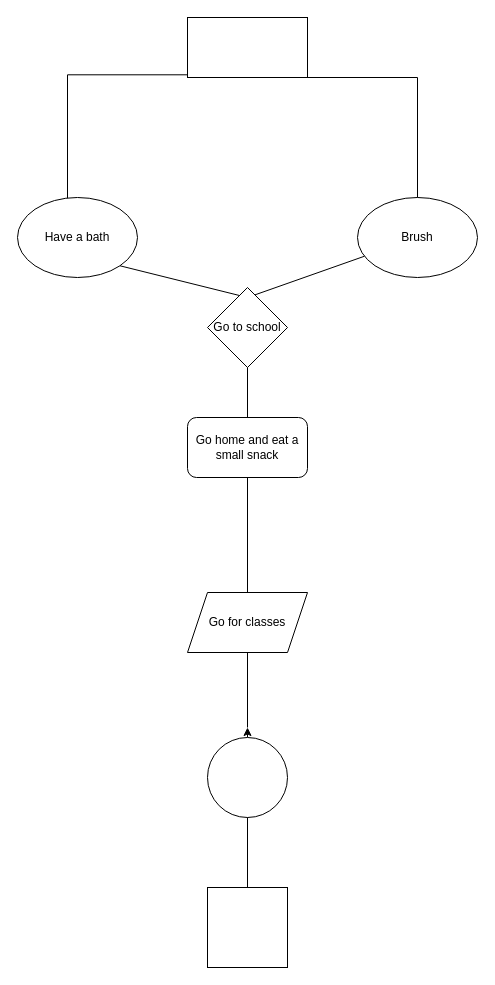
The diagram is 495 pixels wide and 985 high, and some of its shapes have lost their labels. The centre of each missing label's shape, as x and y in pixels:
Come home and play/do timepass: point 247,777
Wake up: point 247,47
